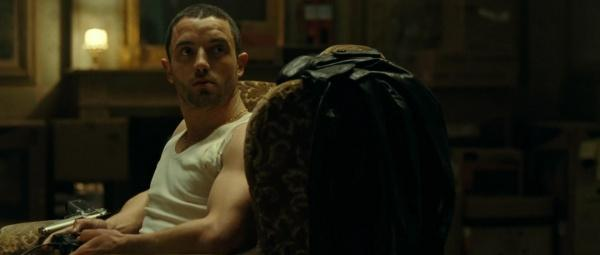Gun: (37, 198, 110, 241)
